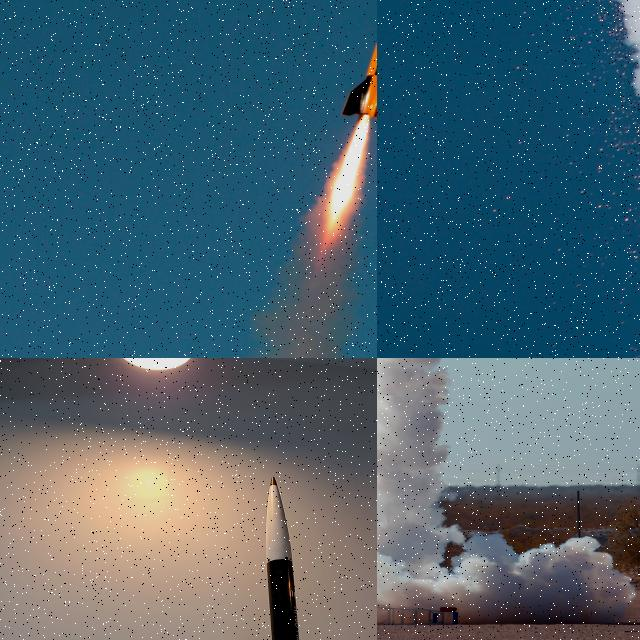Rocket: (265, 476, 300, 640), (340, 0, 377, 125)
